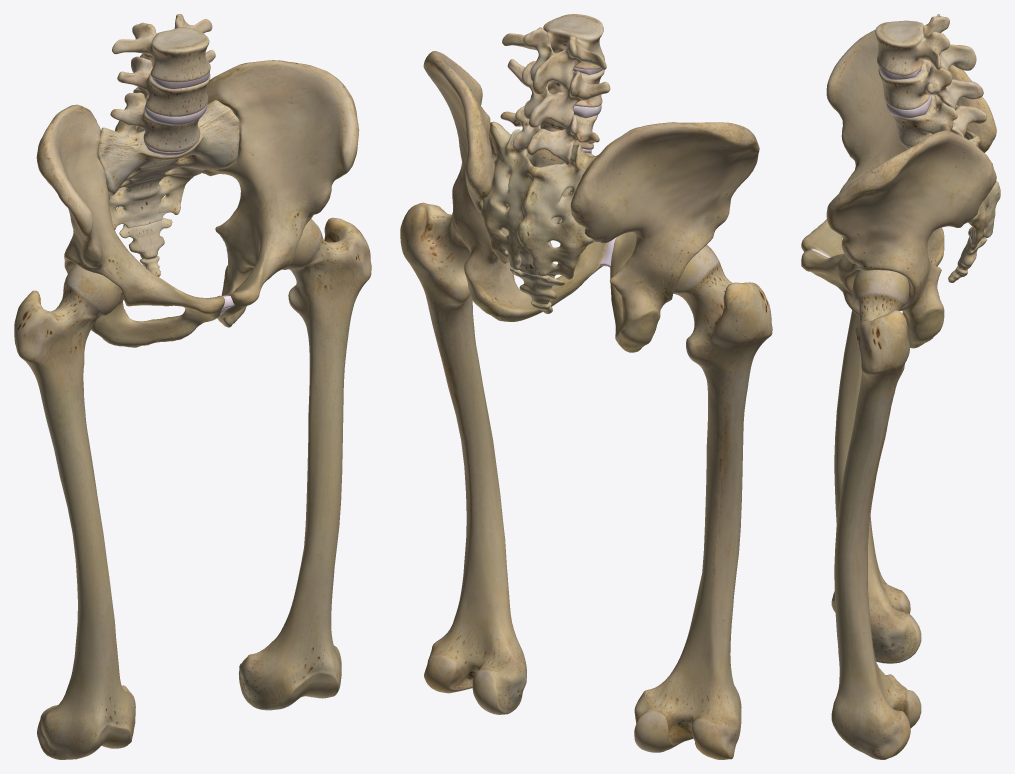
File: posterior wall & column fracture.fbx
The picture shows the model from 3 angles, left to right: view 1: azimuth 30°, elevation 25°; view 2: azimuth 150°, elevation 25°; view 3: azimuth 270°, elevation 25°; orthographic projection. The views are drawn at different scales.
Parts seen in each view (by area): view 1: R_Femur, L_Femur, L_Os_Coxae, R_Os_Coxae, Sacrum, Vertebrae_L03, Vertebrae_L04, Vertebrae_L05, posterior, Coccyx; view 2: R_Femur, L_Femur, R_Os_Coxae, Sacrum, L_Os_Coxae, posterior, Vertebrae_L03, Vertebrae_L04, Vertebrae_L05, Coccyx; view 3: L_Femur, L_Os_Coxae, R_Os_Coxae, R_Femur, Vertebrae_L03, Vertebrae_L04, Vertebrae_L05, Sacrum, Coccyx, posterior, Disc_L04.
Part boxes in pixels (bbox=[...]): R_Femur: bbox=[14, 264, 135, 759]; L_Femur: bbox=[238, 217, 371, 710]; L_Os_Coxae: bbox=[202, 60, 359, 327]; R_Os_Coxae: bbox=[36, 104, 224, 340]; Sacrum: bbox=[97, 100, 239, 229]; Vertebrae_L03: bbox=[112, 14, 212, 82]; Vertebrae_L04: bbox=[117, 50, 215, 116]; Vertebrae_L05: bbox=[110, 92, 200, 152]; posterior: bbox=[64, 246, 176, 347]; Coccyx: bbox=[119, 218, 172, 276]; R_Femur: bbox=[634, 245, 772, 759]; L_Femur: bbox=[400, 202, 526, 714]; R_Os_Coxae: bbox=[570, 122, 759, 300]; Sacrum: bbox=[481, 121, 597, 279]; L_Os_Coxae: bbox=[423, 51, 607, 321]; posterior: bbox=[610, 236, 700, 352]; Vertebrae_L03: bbox=[502, 14, 606, 94]; Vertebrae_L04: bbox=[507, 59, 610, 127]; Vertebrae_L05: bbox=[500, 105, 599, 164]; Coccyx: bbox=[510, 268, 564, 313]; L_Femur: bbox=[831, 270, 921, 759]; L_Os_Coxae: bbox=[801, 130, 996, 348]; R_Os_Coxae: bbox=[801, 29, 996, 256]; R_Femur: bbox=[831, 310, 921, 663]; Vertebrae_L03: bbox=[875, 14, 976, 75]; Vertebrae_L04: bbox=[878, 59, 983, 109]; Vertebrae_L05: bbox=[892, 95, 986, 147]; Sacrum: bbox=[937, 105, 1000, 250]; Coccyx: bbox=[948, 227, 986, 282]; posterior: bbox=[927, 227, 944, 266]; Disc_L04: bbox=[886, 94, 931, 118].
Size of the model in its own units: 33.2 by 61.98 by 16.65.
